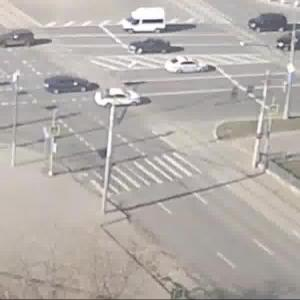car: (1, 26, 38, 54)
